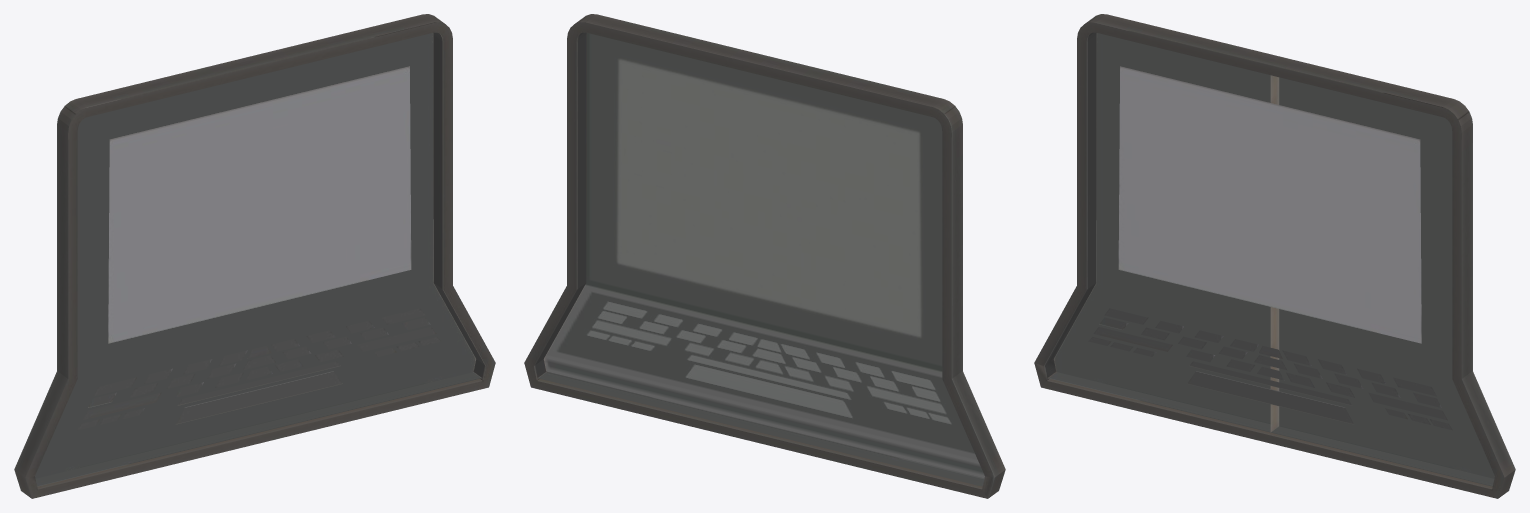
Rendered from Dev_badge.glb.
The picture shows the model from 3 angles, left to right: view 1: azimuth 30°, elevation 25°; view 2: azimuth 150°, elevation 25°; view 3: azimuth 330°, elevation 25°; orthographic projection.
Parts seen in each view (by area): view 1: Dev Badge; view 2: Dev Badge; view 3: Dev Badge.
Boxes of the visible parts, x1,y1,x2,y2 form: Dev Badge: (14,14,495,498); Dev Badge: (524,14,1005,498); Dev Badge: (1034,14,1515,498).
Size of the model in its own units: 0.0969 by 0.0745 by 0.00397.
1 material, 1 textured.
